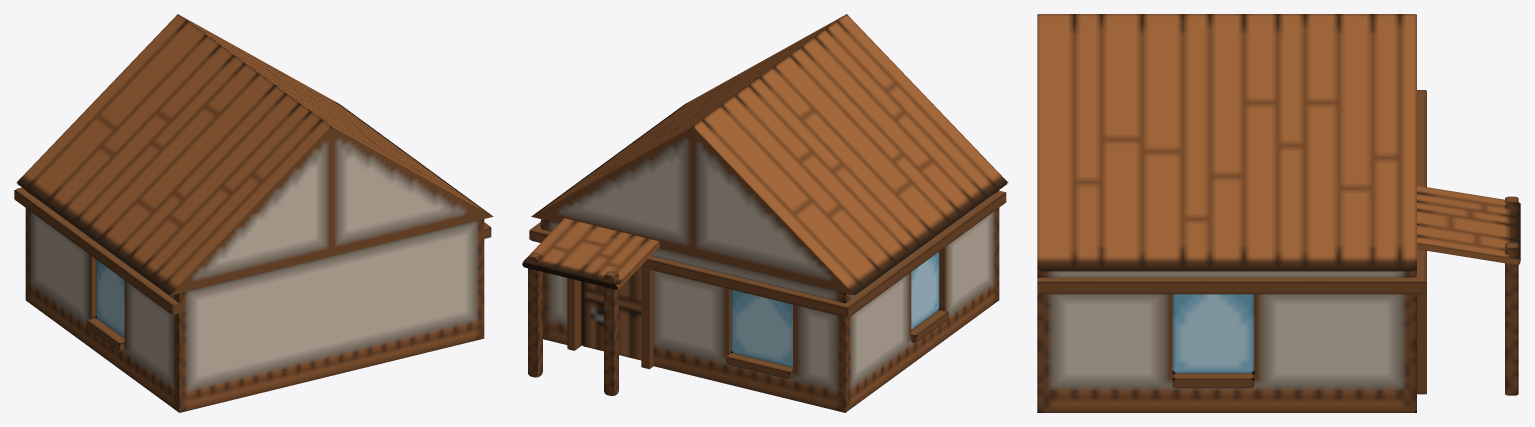
File: house_2.fbx
The picture shows the model from 3 angles, left to right: view 1: azimuth 30°, elevation 25°; view 2: azimuth 150°, elevation 25°; view 3: azimuth 270°, elevation 25°; orthographic projection. The views are drawn at different scales.
Parts seen in each view (by area): view 1: cuboid; view 2: cuboid; view 3: cuboid.
Boxes of the visible parts, bbox=[...] form: cuboid: bbox=[14, 14, 493, 412]; cuboid: bbox=[522, 14, 1008, 412]; cuboid: bbox=[1037, 14, 1520, 412].
Size of the model in its own units: 212 by 156 by 223.
Materials: 1 (1 with a texture image).
